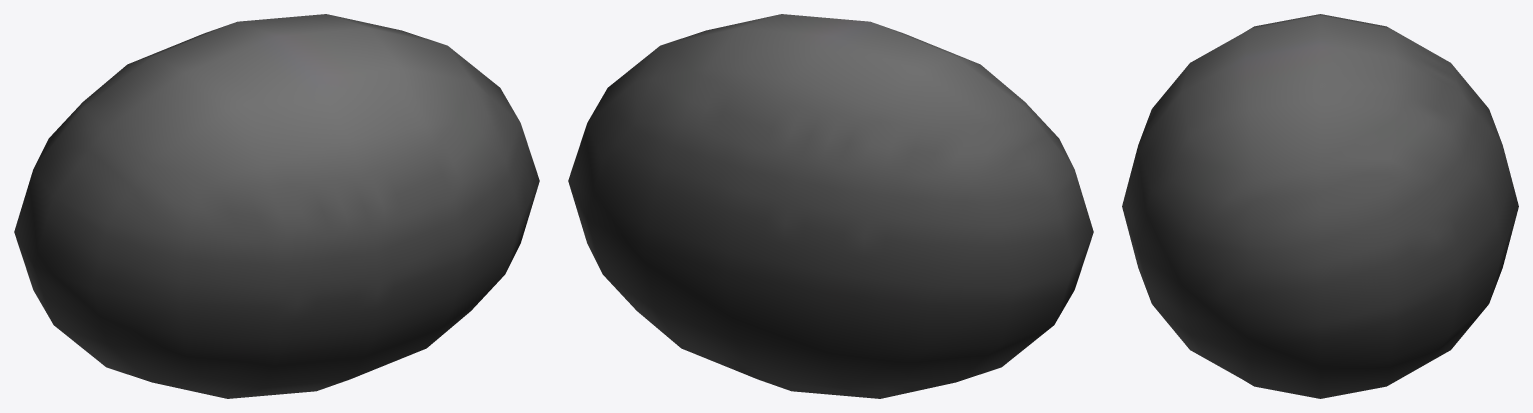
Rendered from M_Environment_StoneSS_01.fbx.
3 renders of one model, left to right at view 1: azimuth 30°, elevation 25°; view 2: azimuth 150°, elevation 25°; view 3: azimuth 270°, elevation 25°, orthographic. The views are drawn at different scales.
Visible parts, largest first — view 1: M_Environment_StoneSS_01; view 2: M_Environment_StoneSS_01; view 3: M_Environment_StoneSS_01.
Boxes of the visible parts, x1,y1,x2,y2 form: M_Environment_StoneSS_01: (14,14,539,398); M_Environment_StoneSS_01: (568,14,1093,398); M_Environment_StoneSS_01: (1122,14,1518,398).
Size of the model in its own units: 161 by 107 by 120.
1 material, 1 textured.
